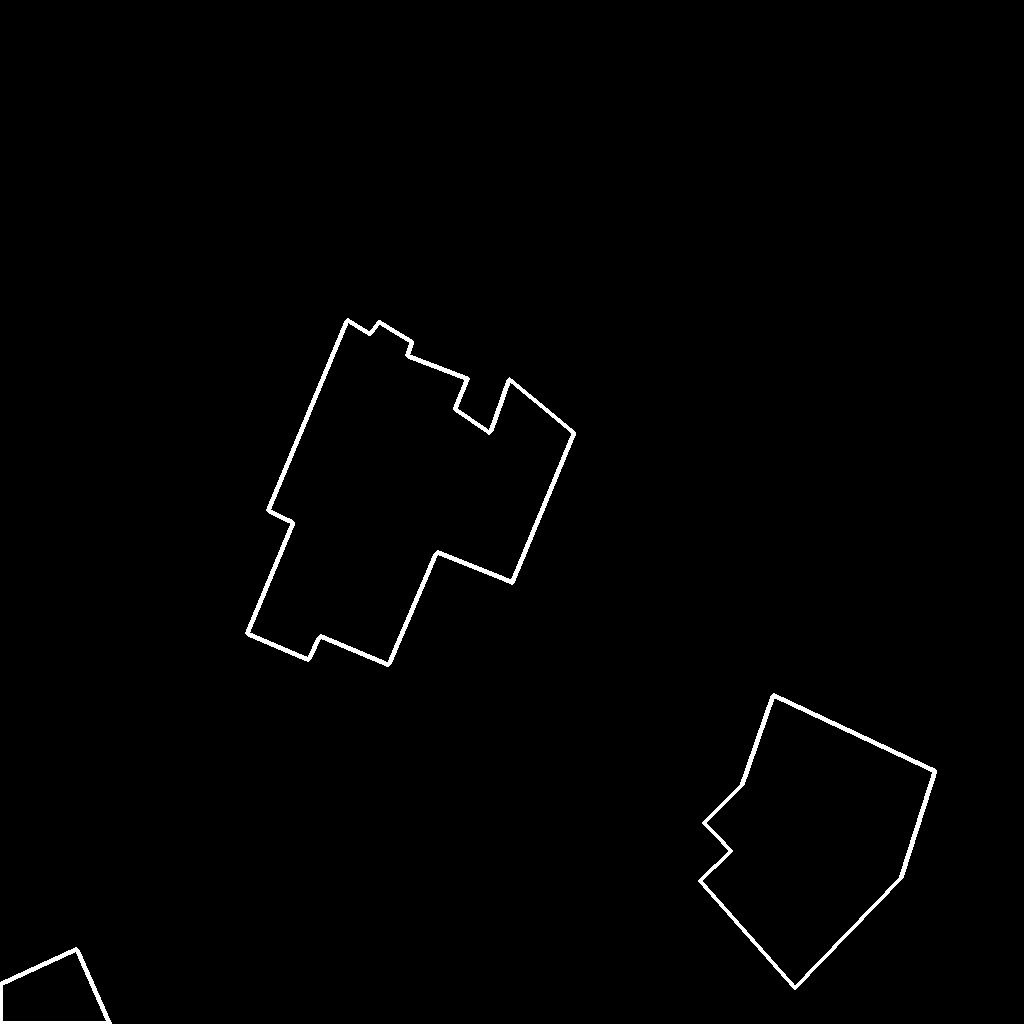building: (247, 320, 575, 666), (700, 695, 936, 989), (0, 949, 111, 1024)
